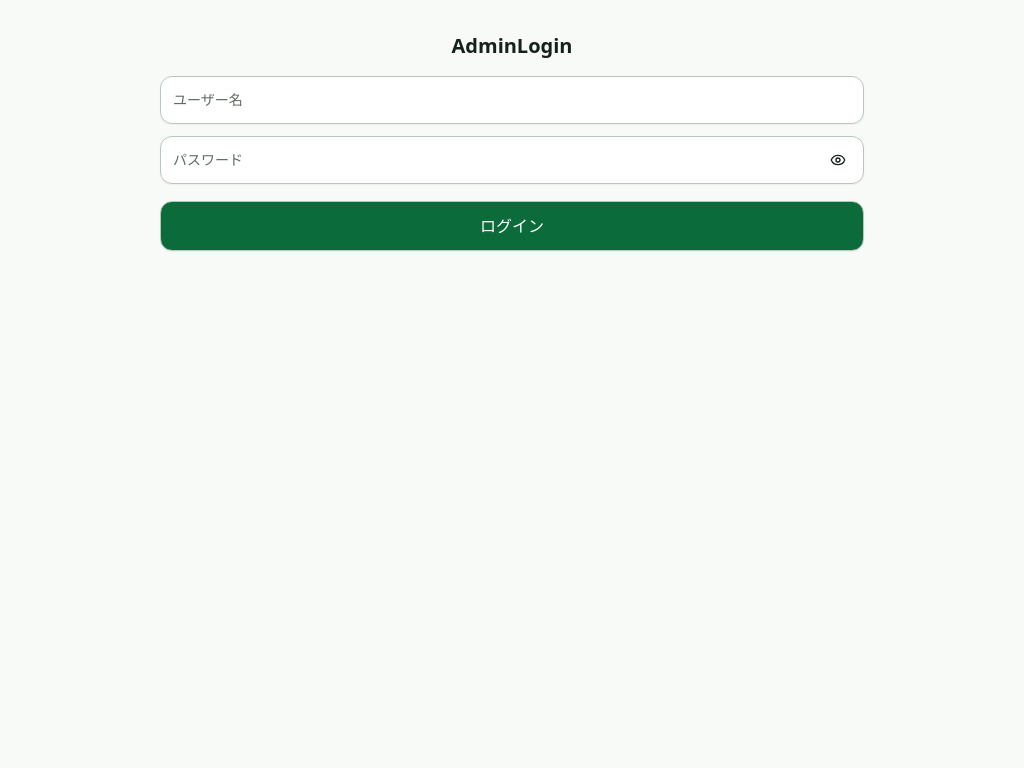
Test: 管理者ログイン › ログイン失敗を安全なAlertDialogで通知する: 0
Type "admin" into the field with placeholder "ユーザー名" at (512, 100), box top-left (160, 76), bottom-right (864, 124)
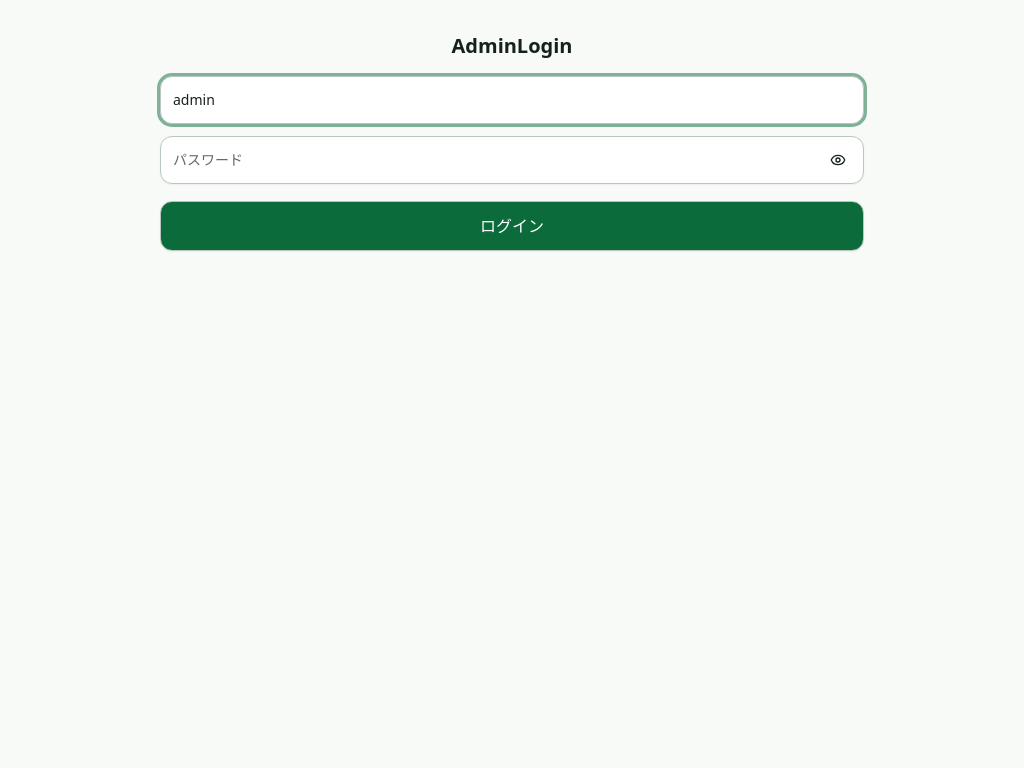
Type "secret" into the password field with placeholder "パスワード" at (512, 160), box top-left (160, 136), bottom-right (864, 184)
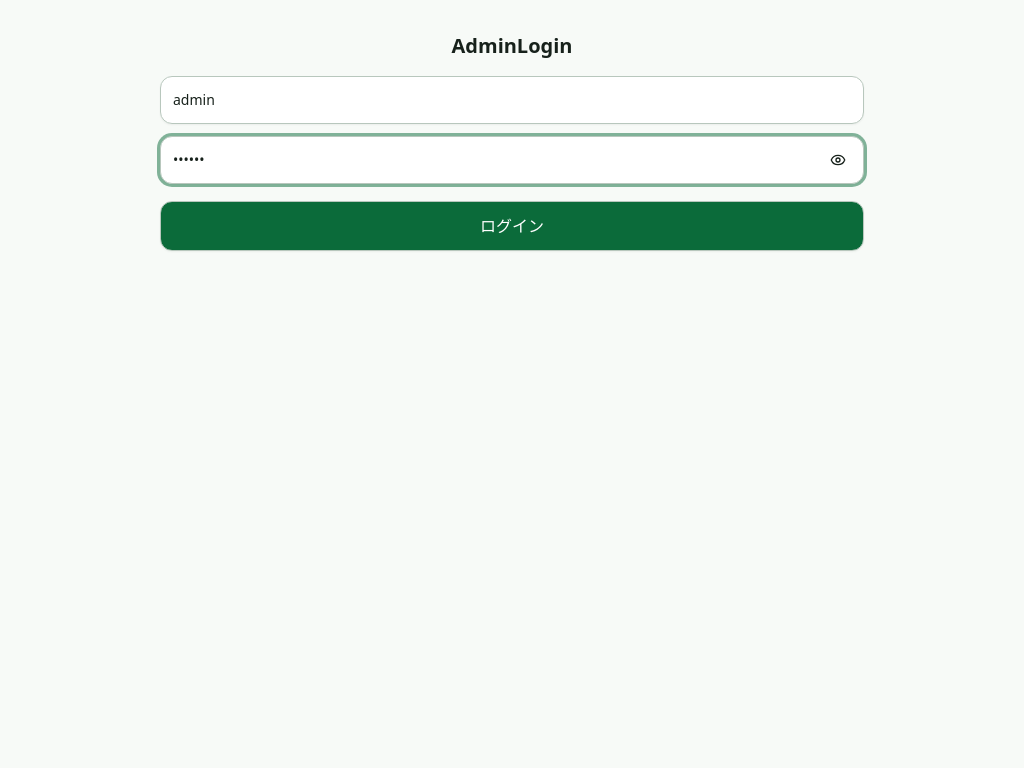
Click the button "ログイン" at (512, 226), box top-left (160, 201), bottom-right (864, 251)
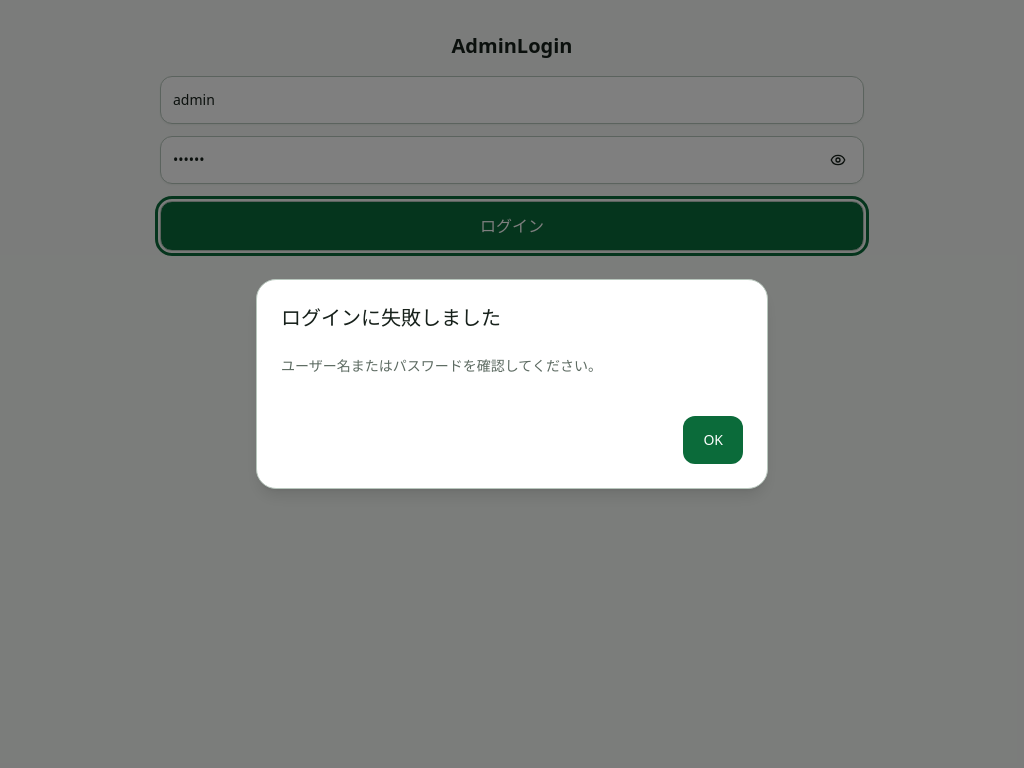
Expected: the text "ユーザー名またはパスワードを確認してください。" is shown, top-left (281, 356), bottom-right (602, 375)
